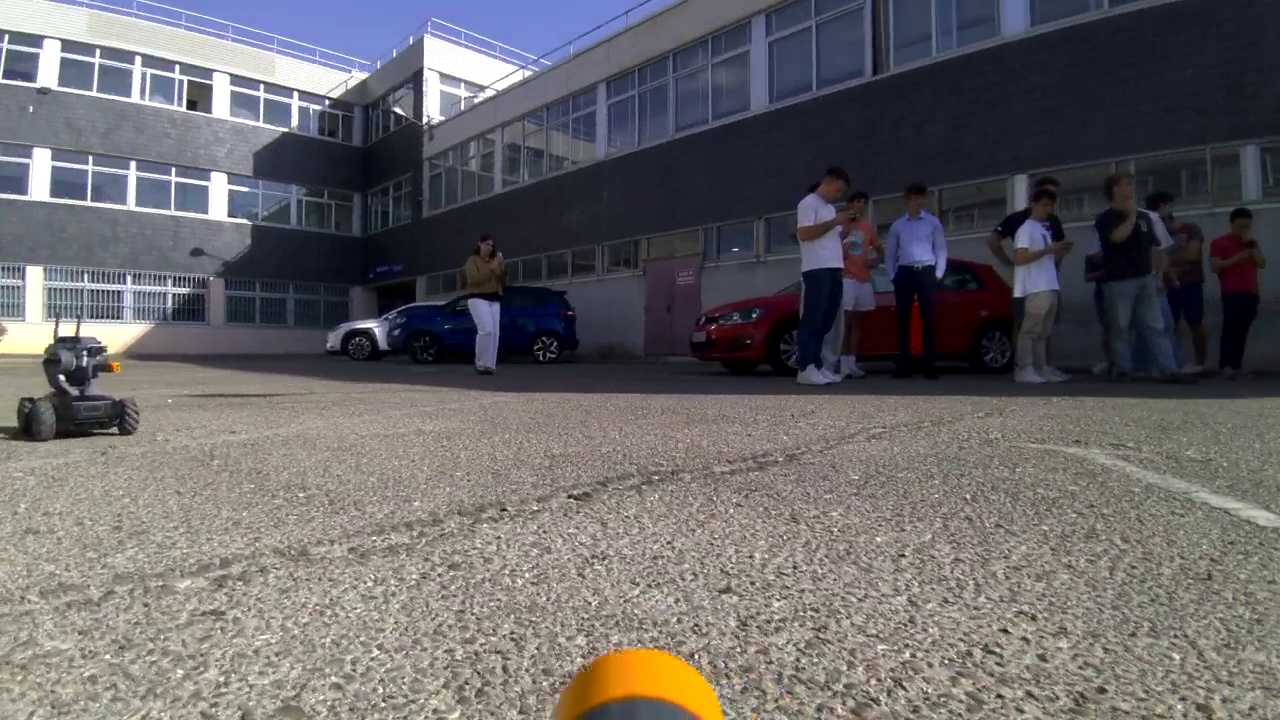robot: (7, 313, 140, 440)
